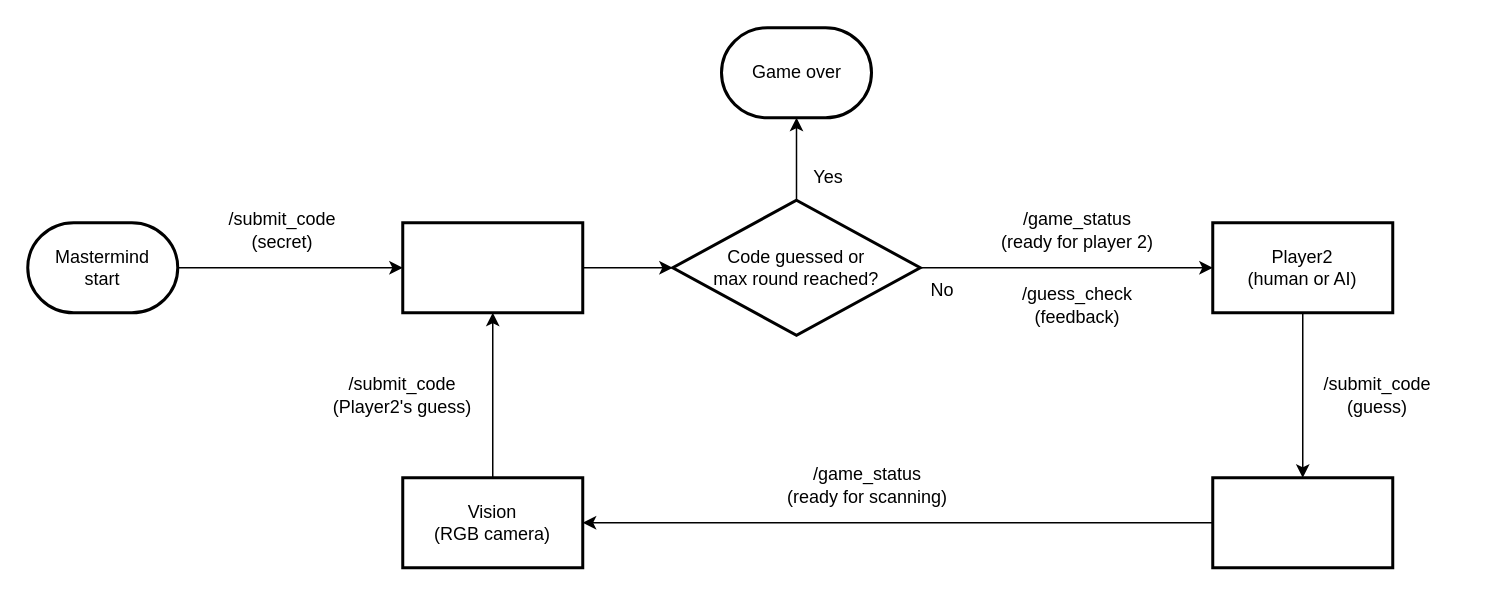
Some shapes in this 1493 by 594 pixel diagram are drawn without their labels. Here are the shapes that lost their labels. From the top down, the centre of each, then its label:
At (492,267): "GameState".
At (1302,522): "PickAndPlace (robot arm)".
